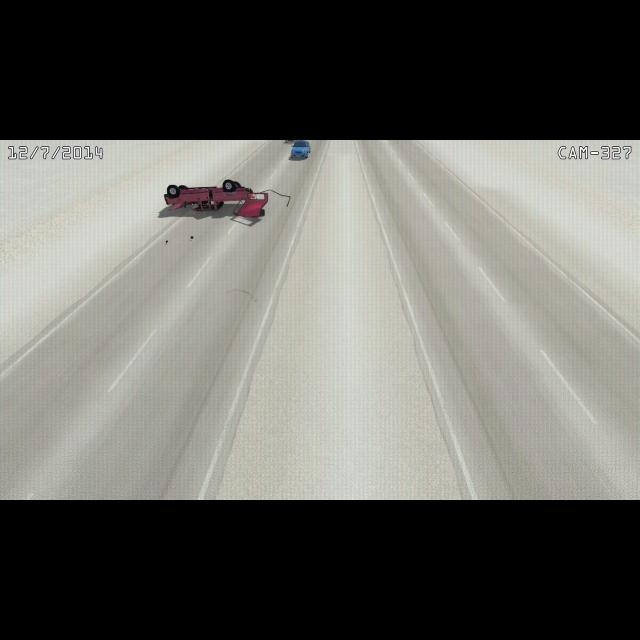accident: (162, 178, 272, 222)
